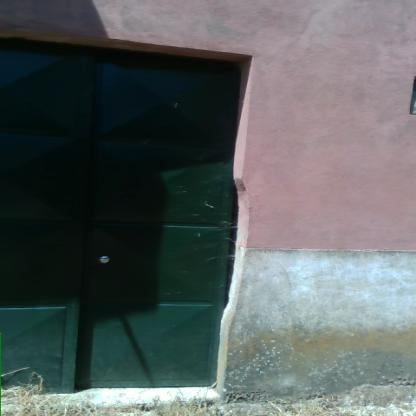closed: (0, 23, 260, 407)
